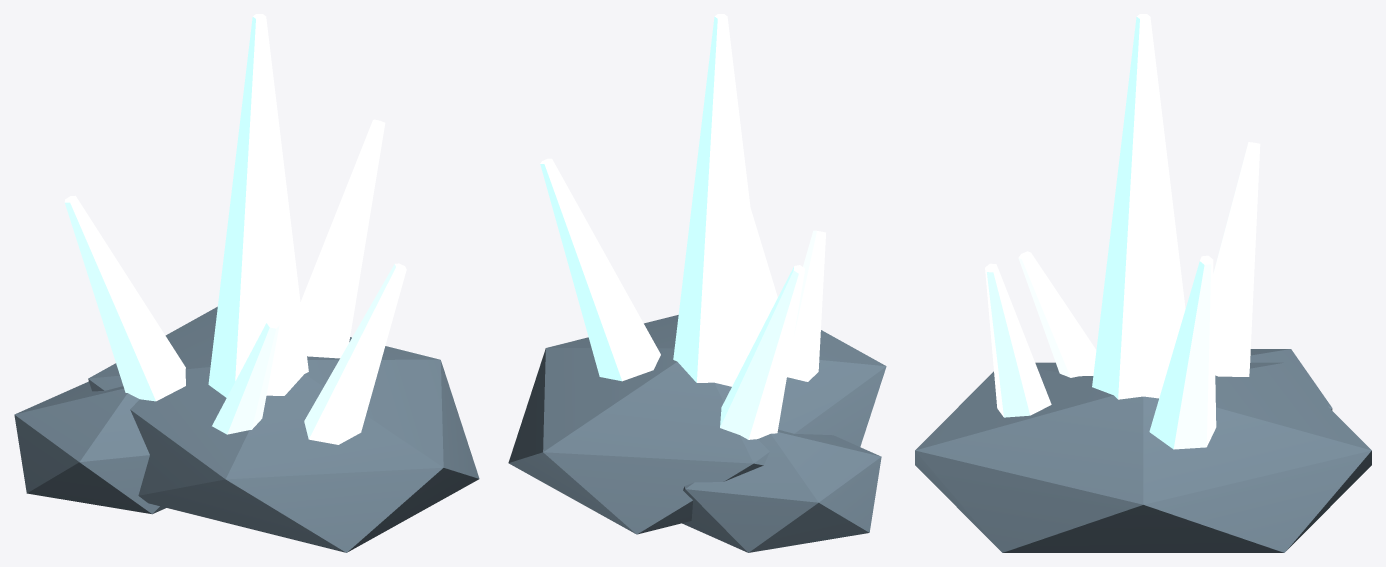
File: beacon_ice.glb
3 views of the same model, side by side, from view 1: azimuth 30°, elevation 25°; view 2: azimuth 150°, elevation 25°; view 3: azimuth 270°, elevation 25° (orthographic). The views are drawn at different scales.
Parts seen in each view (by area): view 1: beacon_ice; view 2: beacon_ice; view 3: beacon_ice.
Part boxes in pixels (x1,y1,x2,y2): beacon_ice: (14,14,479,552); beacon_ice: (508,14,886,552); beacon_ice: (915,14,1371,552).
Size of the model in its own units: 0.7684 by 0.96 by 0.7911.
